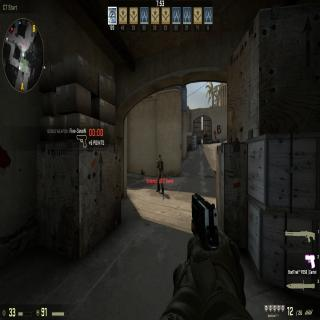T-Body: (156, 154, 164, 194)
T-Head: (158, 154, 162, 162)
